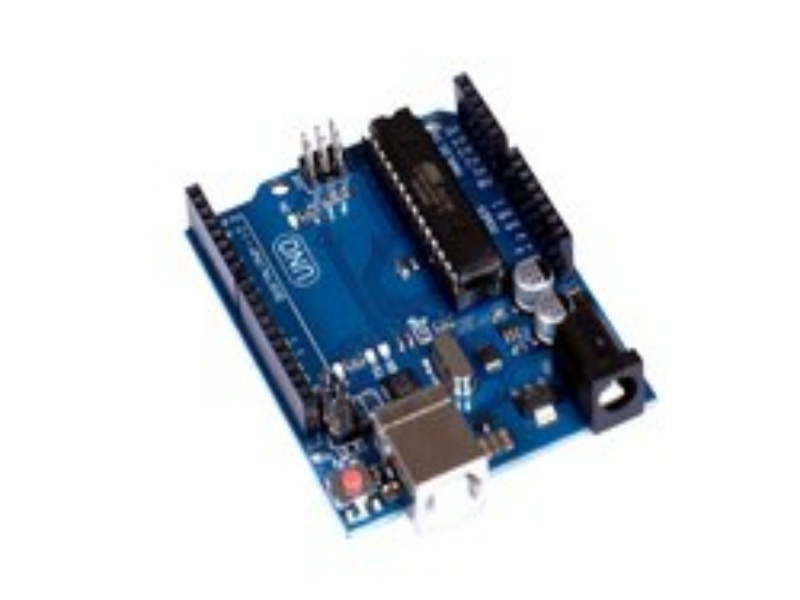uno: (179, 72, 680, 513)
